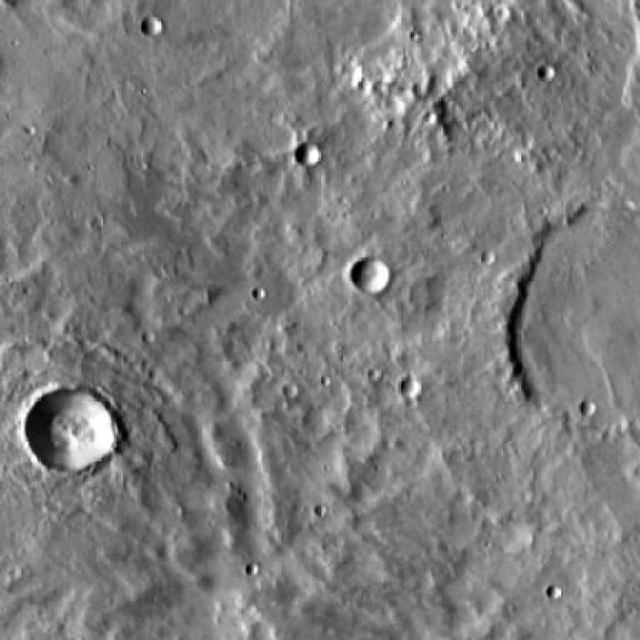crater: (517, 202, 640, 424), (28, 392, 115, 476), (352, 257, 390, 294), (298, 142, 320, 166), (398, 376, 420, 399), (141, 14, 162, 35), (538, 60, 557, 78)
